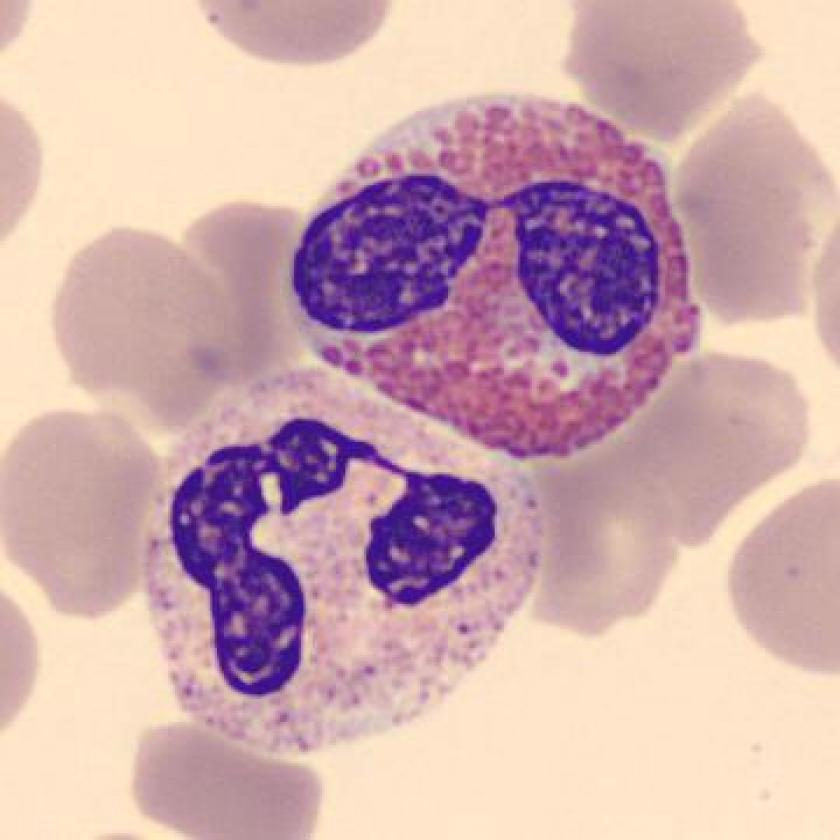eosinophil: (281, 73, 720, 468)
